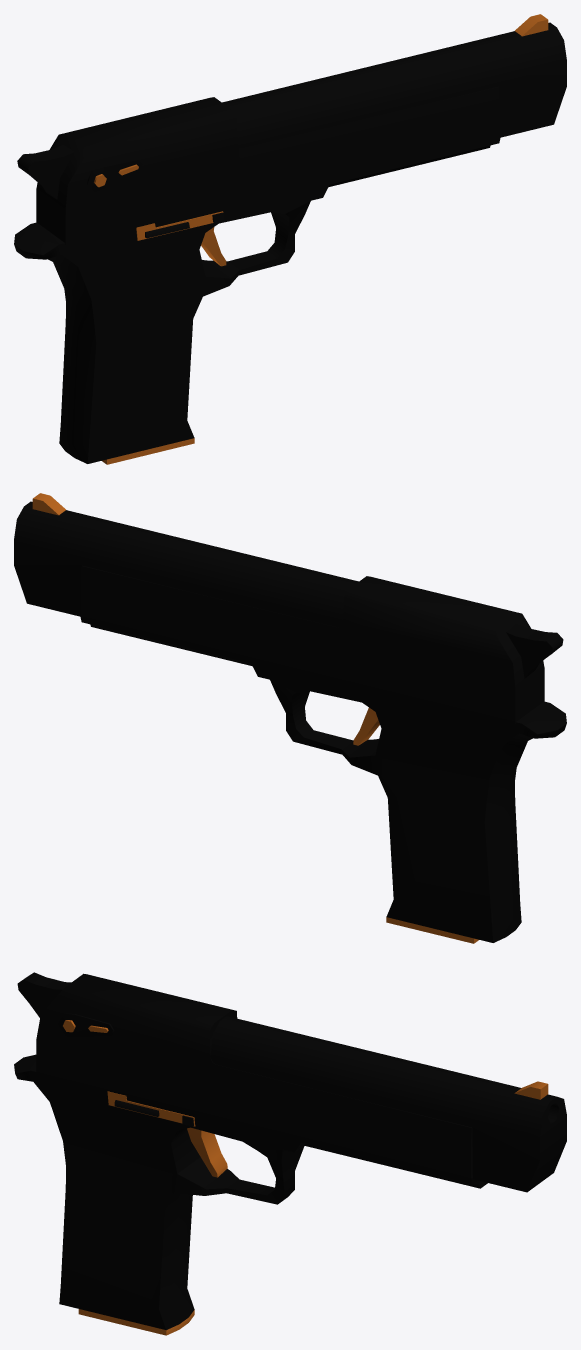
Rendered from Hand_gun_V1.1.fbx.
3 views of the same model, one above another, from view 1: azimuth 30°, elevation 25°; view 2: azimuth 150°, elevation 25°; view 3: azimuth 330°, elevation 25° (orthographic).
Visible parts, largest first — view 1: Hand gun; view 2: Hand gun; view 3: Hand gun.
Part boxes in pixels (bbox=[...]): Hand gun: bbox=[14, 14, 566, 464]; Hand gun: bbox=[14, 493, 566, 943]; Hand gun: bbox=[14, 972, 566, 1335].
Size of the model in its own units: 16.59 by 9.71 by 1.69.
